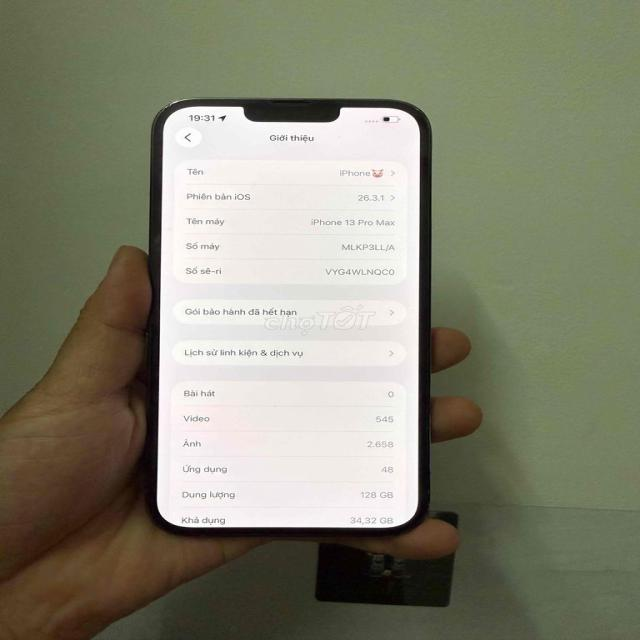gen_12_13: (127, 83, 464, 555)
